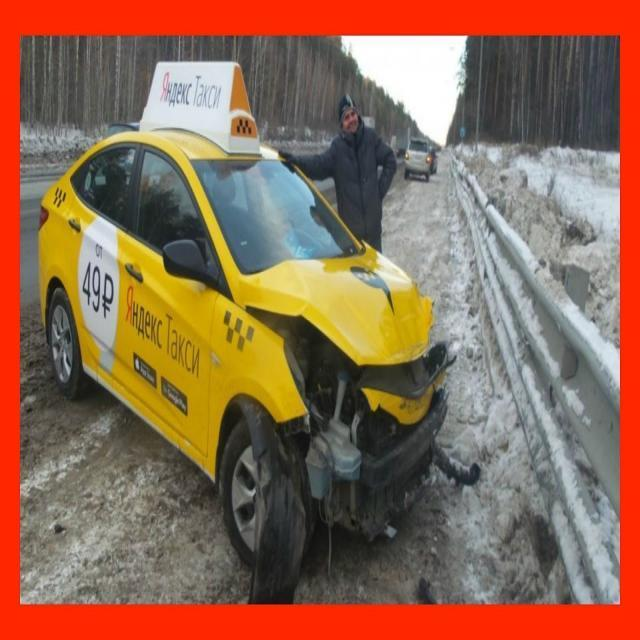accident: (34, 59, 482, 602)
